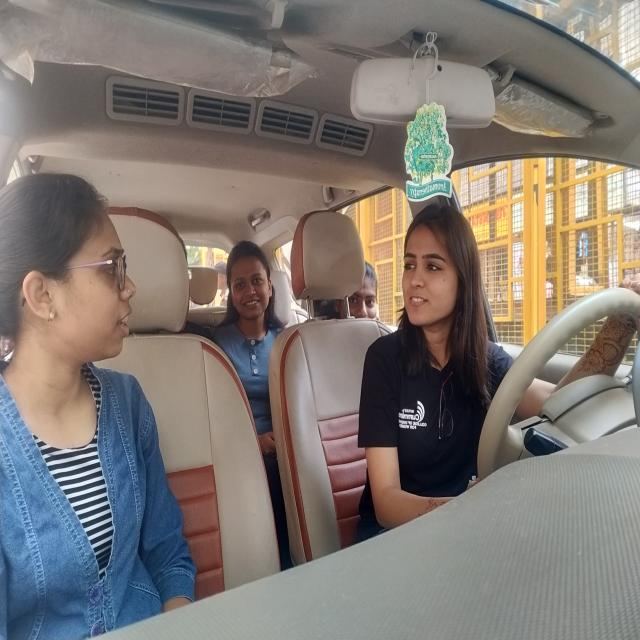LeftRight: (399, 200, 481, 334)
person: (0, 174, 140, 374), (222, 242, 276, 323), (347, 265, 379, 323)
talking: (116, 306, 136, 339), (407, 290, 432, 312)
